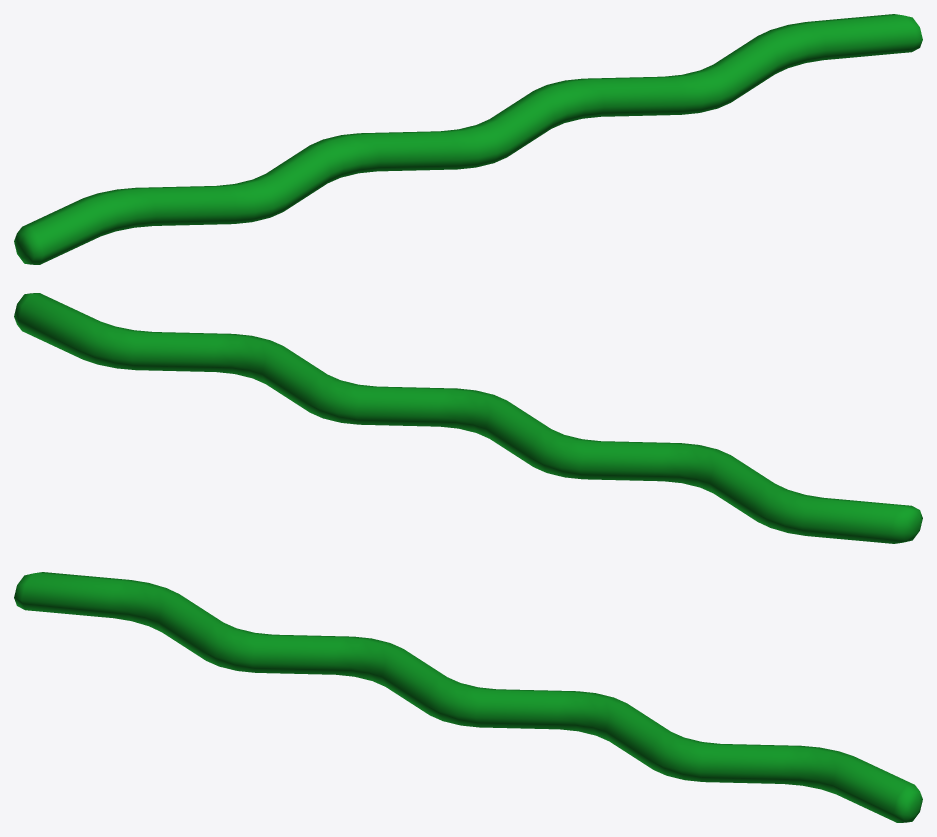
File: Souse.003.fbx
3 views of the same model, one above another, from view 1: azimuth 30°, elevation 25°; view 2: azimuth 150°, elevation 25°; view 3: azimuth 330°, elevation 25° (orthographic).
Parts seen in each view (by area): view 1: Souse.003; view 2: Souse.003; view 3: Souse.003.
Part boxes in pixels (left/top/right/bottom): Souse.003: left=14, top=14, right=922, bottom=264; Souse.003: left=14, top=293, right=922, bottom=543; Souse.003: left=14, top=572, right=922, bottom=822.
Bounding box in the file's own units: 153 × 14.66 × 5.82.
